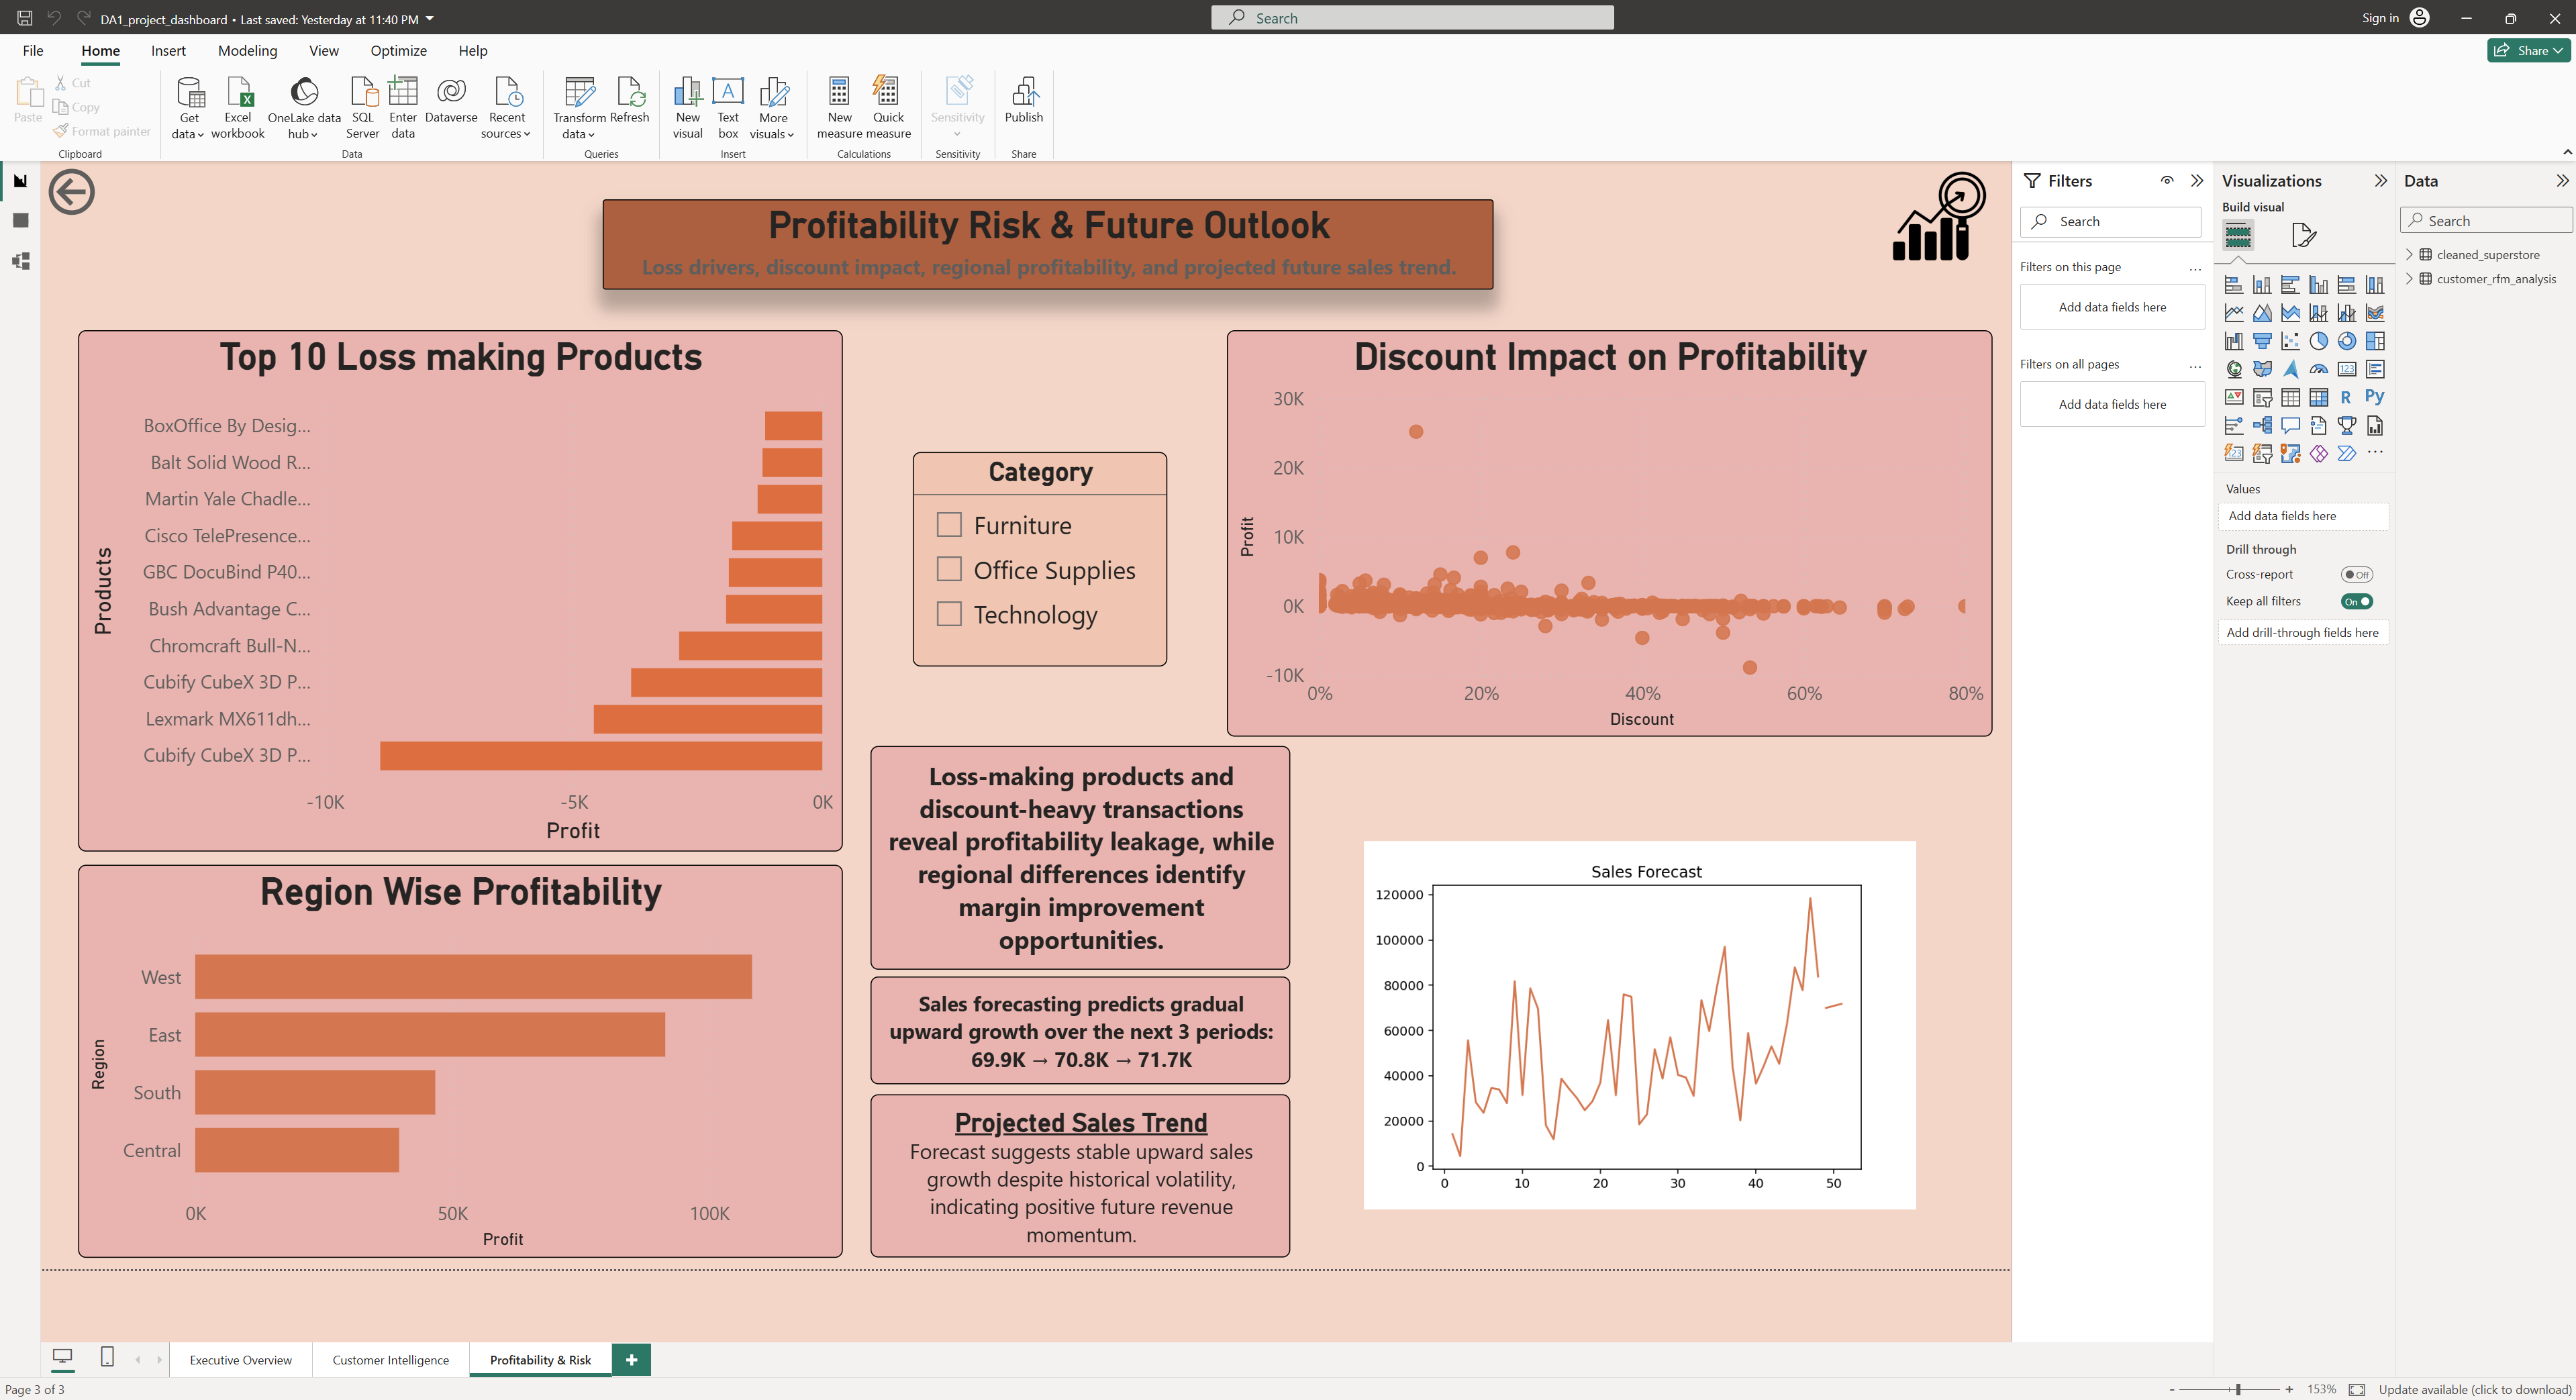

The page's visual inventory and layout, read from the dashboard file:
{"tool":"powerbi","page":{"name":"Profitability & Risk","canvas":[1280,720],"ordinal":2},"visuals":[{"type":"clusteredBarChart","title":"Top 10 Loss making Products","fields":{"Category":["cleaned_superstore.product_name"],"Y":["Sum(cleaned_superstore.profit)"]},"box":[24.2,109.9,496.4,338.7],"z":0},{"type":"scatterChart","title":"Discount Impact on Profitability","fields":{"X":["Avg(cleaned_superstore.discount)"],"Y":["Sum(cleaned_superstore.profit)"],"Category":["cleaned_superstore.product_name"]},"box":[770.4,109.9,497.7,264.2],"z":1000},{"type":"clusteredBarChart","title":"Region Wise Profitability","fields":{"Category":["cleaned_superstore.region"],"Y":["Sum(cleaned_superstore.profit)"]},"box":[24.2,457.1,496.4,255],"z":2000},{"type":"textbox","box":[538.9,379.9,272.7,145.2],"z":3000},{"type":"slicer","title":"Category","fields":{"Values":["cleaned_superstore.category"]},"box":[566.3,189,165.5,139.3],"z":4000},{"type":"image","box":[854.1,425.7,368.8,271.4],"z":5000},{"type":"textbox","box":[538.9,606.2,272.7,105.9],"z":6000},{"type":"textbox","box":[538.9,529.7,272.7,70],"z":7000},{"type":"image","box":[1186.9,0,92.9,71.3],"z":8000},{"type":"actionButton","box":[0,0,100,40],"z":9000},{"type":"textbox","title":"Profitability Risk & Future Outlook","box":[364.9,24.9,578.7,58.9],"z":9001}]}

Visuals, with their boxes on the page's 1280x720 design canvas (x1, y1, x2, y2). These are canvas units, not pixel positions in the 2576x1400 screenshot, which may show the page scaled, cropped or inside an application window:
"Top 10 Loss making Products" clusteredBarChart: 24,110,521,449
"Discount Impact on Profitability" scatterChart: 770,110,1268,374
"Region Wise Profitability" clusteredBarChart: 24,457,521,712
textbox: 539,380,812,525
"Category" slicer: 566,189,732,328
image: 854,426,1223,697
textbox: 539,606,812,712
textbox: 539,530,812,600
image: 1187,0,1280,71
actionButton: 0,0,100,40
"Profitability Risk & Future Outlook" textbox: 365,25,944,84
